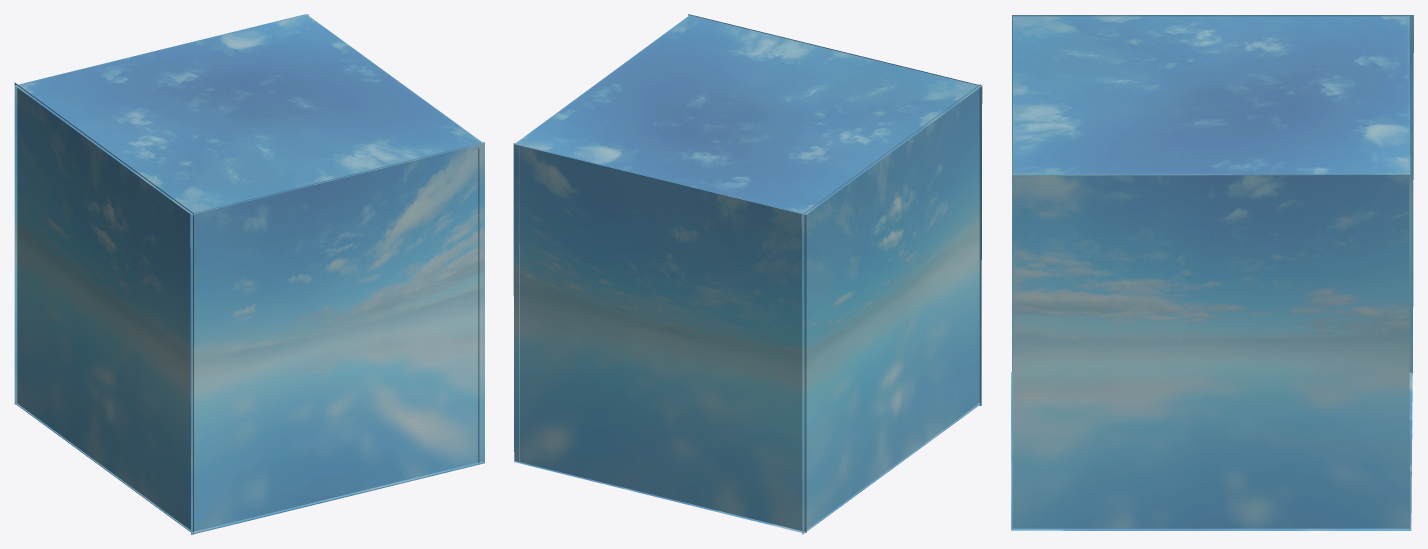
Rendered from skybox.glb.
3 views of the same model, side by side, from view 1: azimuth 30°, elevation 25°; view 2: azimuth 150°, elevation 25°; view 3: azimuth 270°, elevation 25° (orthographic). The views are drawn at different scales.
Parts seen in each view (by area): view 1: Object_2; view 2: Object_2; view 3: Object_2.
Boxes of the visible parts, x1,y1,x2,y2 form: Object_2: (14,14,484,534); Object_2: (513,14,982,534); Object_2: (1011,15,1413,530).
Size of the model in its own units: 1.01 by 1.05 by 1.06.
1 material, 1 textured.
